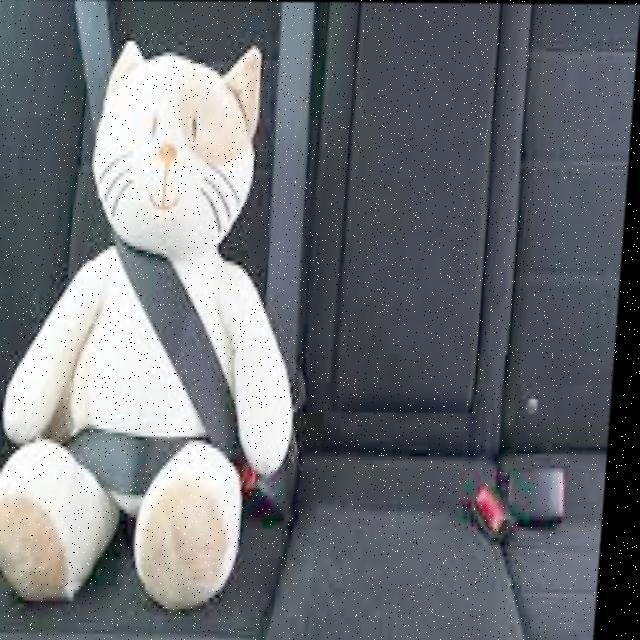seatbelt: (44, 220, 275, 508)
